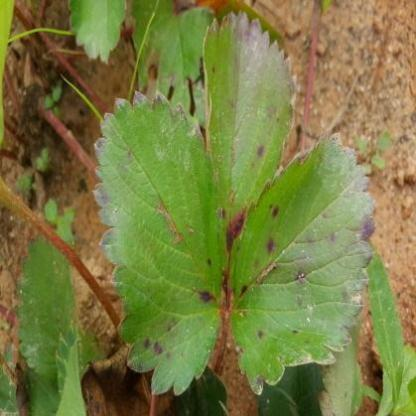Strawberry_Leaf_Spot: (91, 88, 226, 396), (227, 130, 377, 398), (202, 9, 298, 294), (316, 316, 364, 415)
